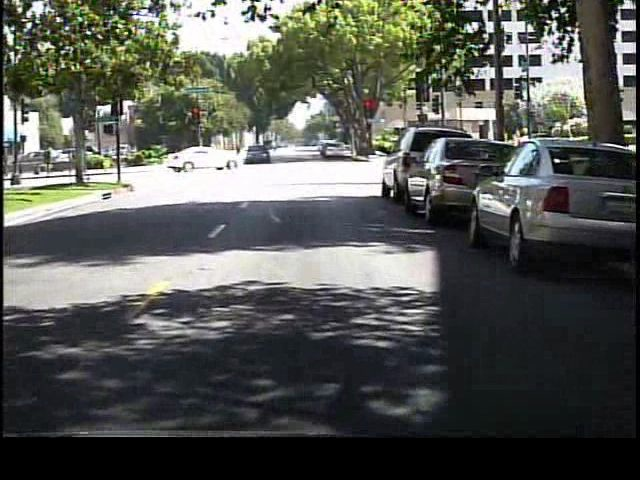person: (247, 141, 264, 170)
